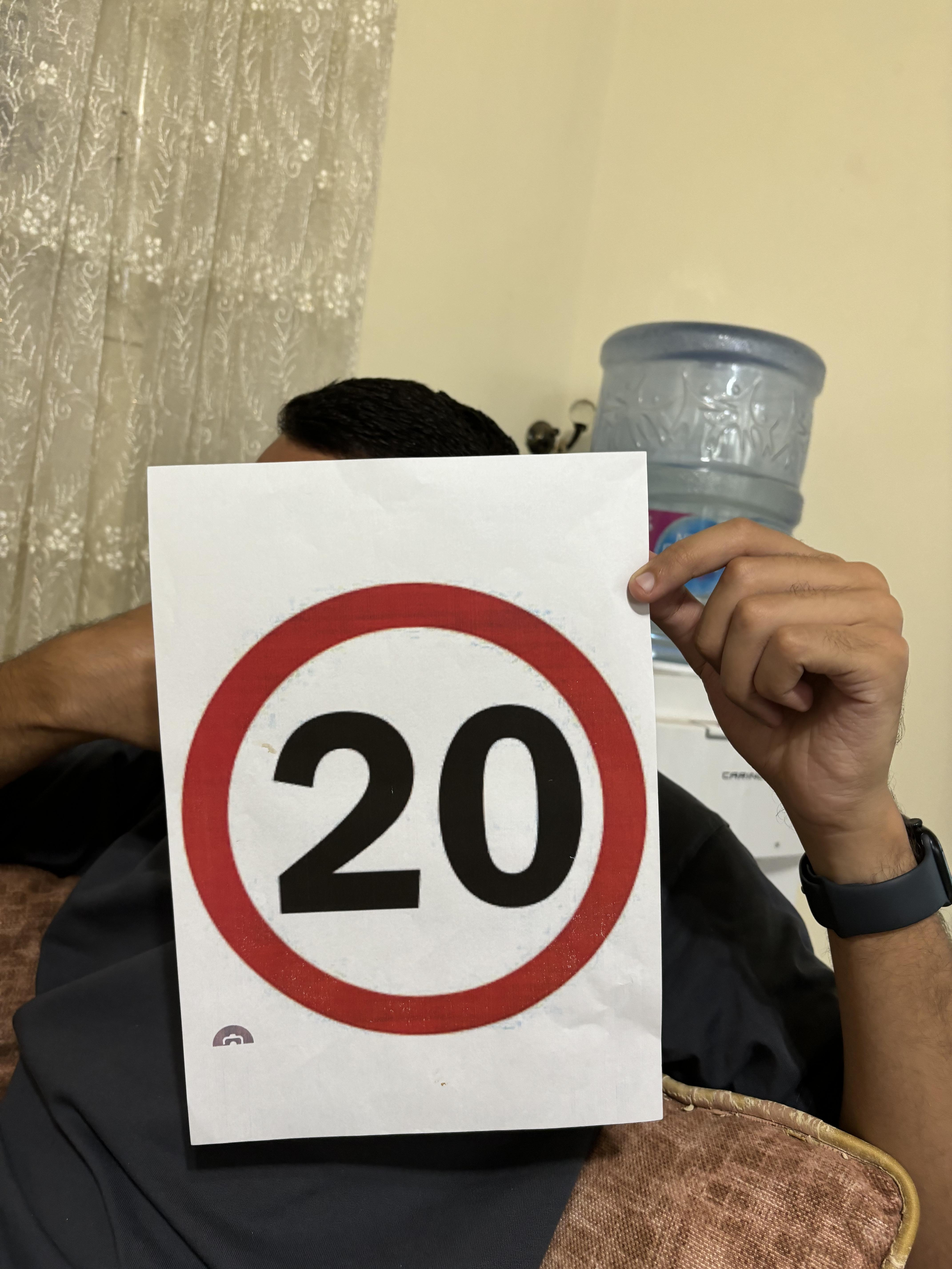20-Speed: (177, 574, 652, 1041)
